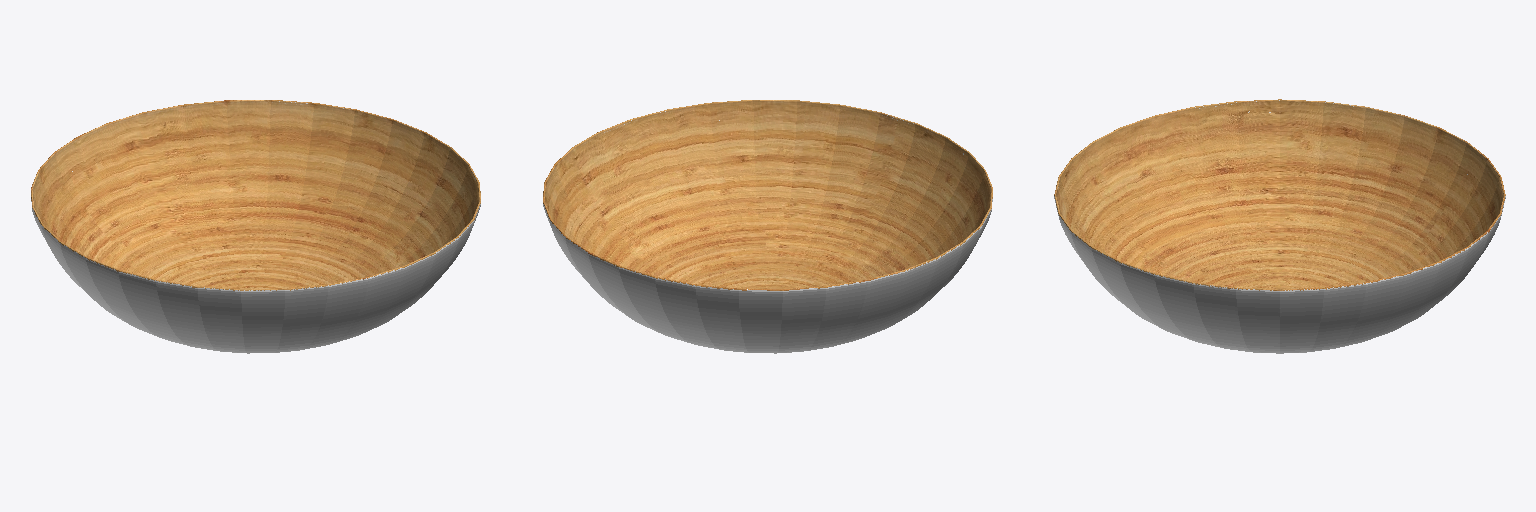
3 renders of one model, left to right at view 1: azimuth 30°, elevation 25°; view 2: azimuth 150°, elevation 25°; view 3: azimuth 270°, elevation 25°, orthographic.
Parts seen in each view (by area): view 1: Vert.003, Vert.001; view 2: Vert.003, Vert.001; view 3: Vert.003, Vert.001.
Boxes of the visible parts, <box> form: Vert.003: <box>31,100,480,291</box>; Vert.001: <box>32,205,480,353</box>; Vert.003: <box>543,100,992,291</box>; Vert.001: <box>543,205,991,353</box>; Vert.003: <box>1054,99,1505,291</box>; Vert.001: <box>1054,198,1505,353</box>.
Bounding box in the file's own units: 0.3 × 0.09 × 0.3.
2 materials, 1 textured.